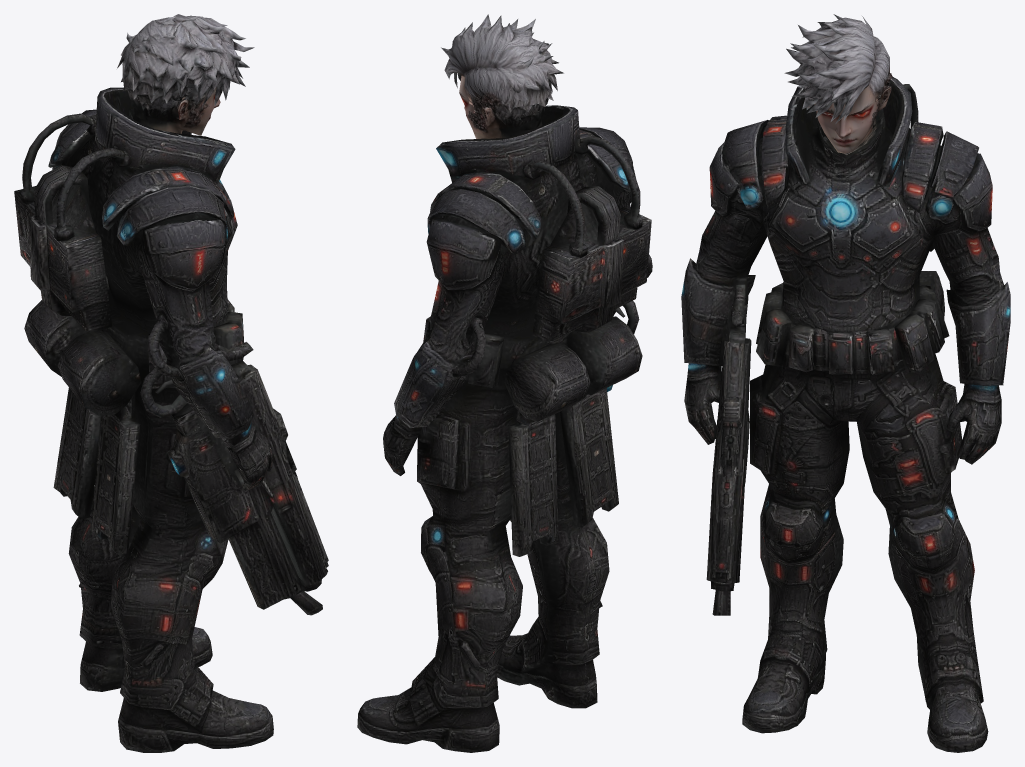
The model's file is cyber.fbx.
3 views of the same model, side by side, from view 1: azimuth 30°, elevation 25°; view 2: azimuth 150°, elevation 25°; view 3: azimuth 270°, elevation 25° (orthographic). The views are drawn at different scales.
Visible parts, largest first — view 1: tripo_node_813ec1fd; view 2: tripo_node_813ec1fd; view 3: tripo_node_813ec1fd.
Boxes of the visible parts, bbox=[...] form: tripo_node_813ec1fd: bbox=[14, 14, 328, 752]; tripo_node_813ec1fd: bbox=[357, 14, 652, 752]; tripo_node_813ec1fd: bbox=[681, 14, 1010, 752].
Bounding box in the file's own units: 0.3301 × 0.998 × 0.4316.
